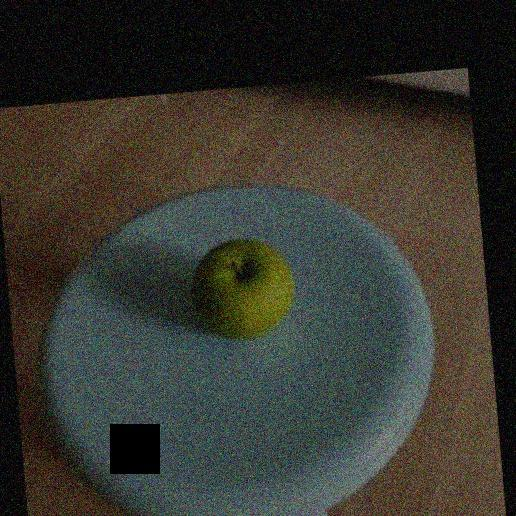green apple: (191, 236, 295, 334)
